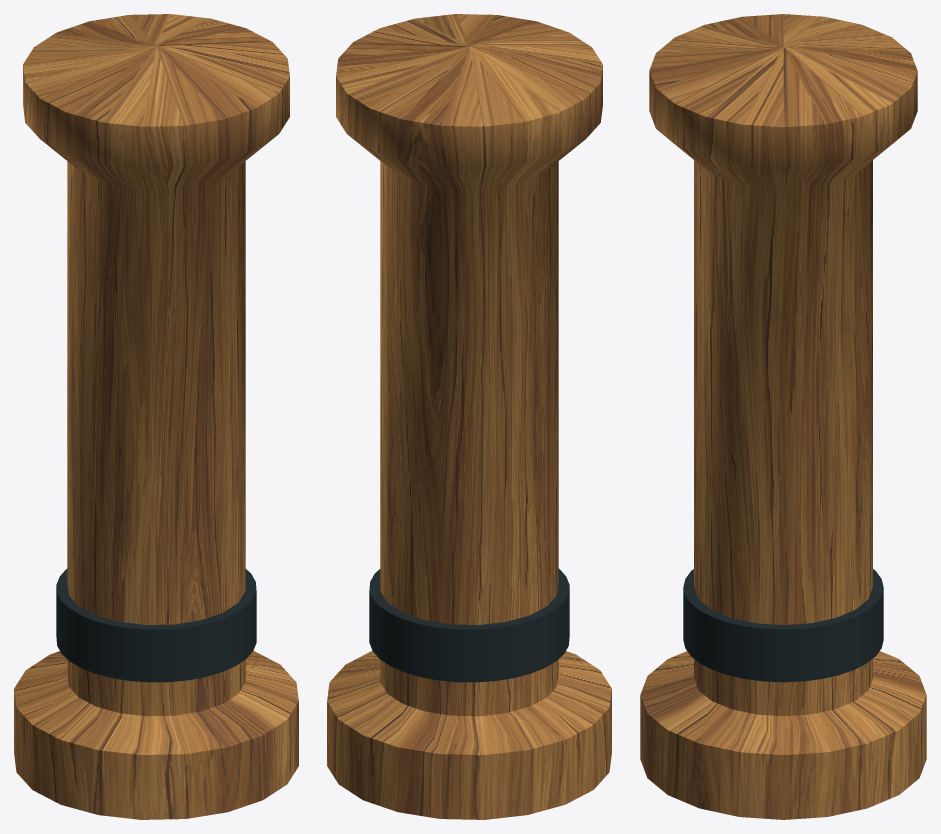
The model's file is 14_Bolardo.obj.
3 views of the same model, side by side, from view 1: azimuth 30°, elevation 25°; view 2: azimuth 150°, elevation 25°; view 3: azimuth 270°, elevation 25° (orthographic).
Parts seen in each view (by area): view 1: 14_Bolardo_Wood, 14_Bolardo_Iron; view 2: 14_Bolardo_Wood, 14_Bolardo_Iron; view 3: 14_Bolardo_Wood, 14_Bolardo_Iron.
Boxes of the visible parts, x1,y1,x2,y2 form: 14_Bolardo_Wood: [14, 14, 298, 819]; 14_Bolardo_Iron: [56, 568, 256, 682]; 14_Bolardo_Wood: [327, 14, 611, 819]; 14_Bolardo_Iron: [369, 568, 569, 682]; 14_Bolardo_Wood: [640, 14, 926, 819]; 14_Bolardo_Iron: [683, 569, 883, 682].
Bounding box in the file's own units: 0.32 × 0.88 × 0.32.
2 materials, 1 textured.
